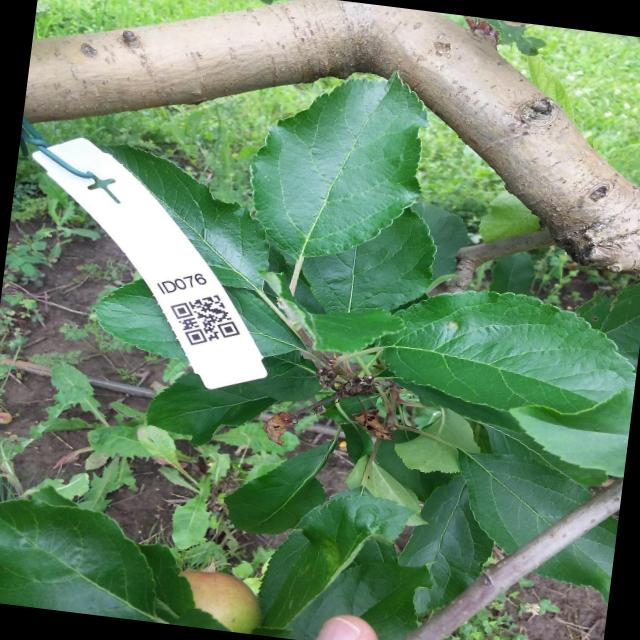-FireBlight-: (261, 361, 395, 448)
